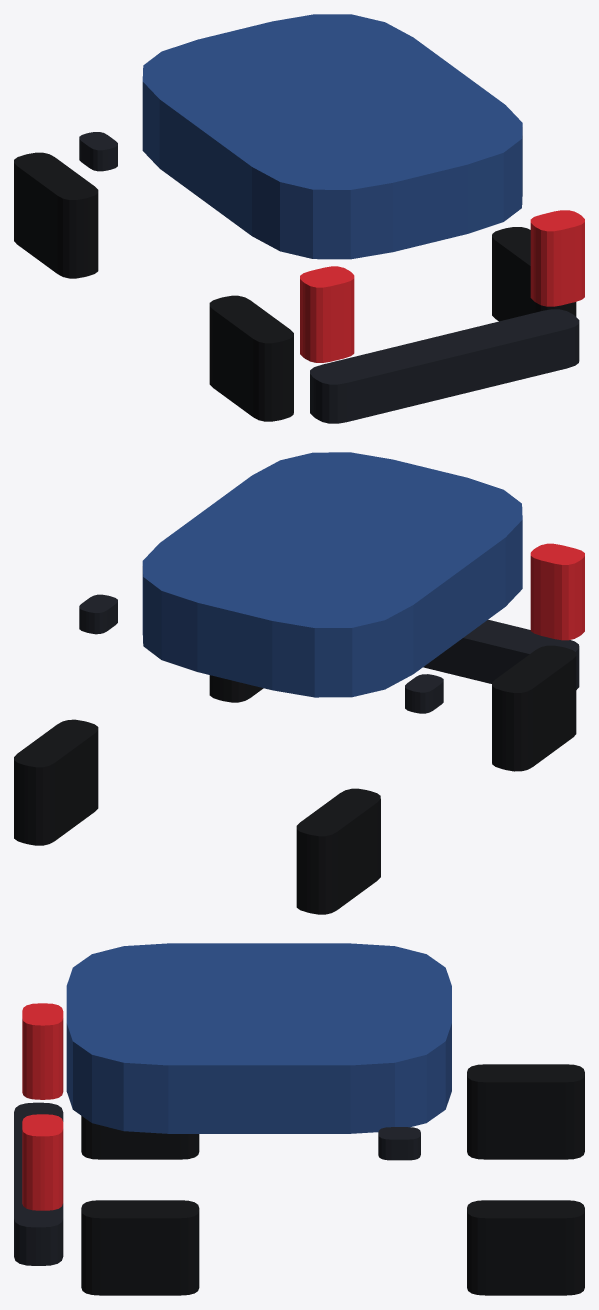
Rendered from car_parts_hatch.glb.
3 views of the same model, one above another, from view 1: azimuth 30°, elevation 25°; view 2: azimuth 150°, elevation 25°; view 3: azimuth 270°, elevation 25° (orthographic).
Bounding box in the file's own units: 2.44 × 1.44 × 3.48.
